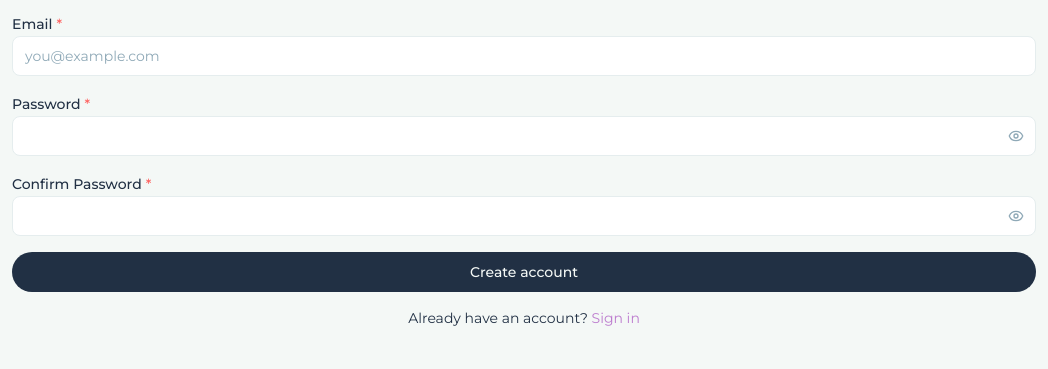
SignupForm › shows a validation error when passwords do not match
Type "new@example.com" into the field labelled "Email*" at x=524, y=56, box [12,36,1036,76]
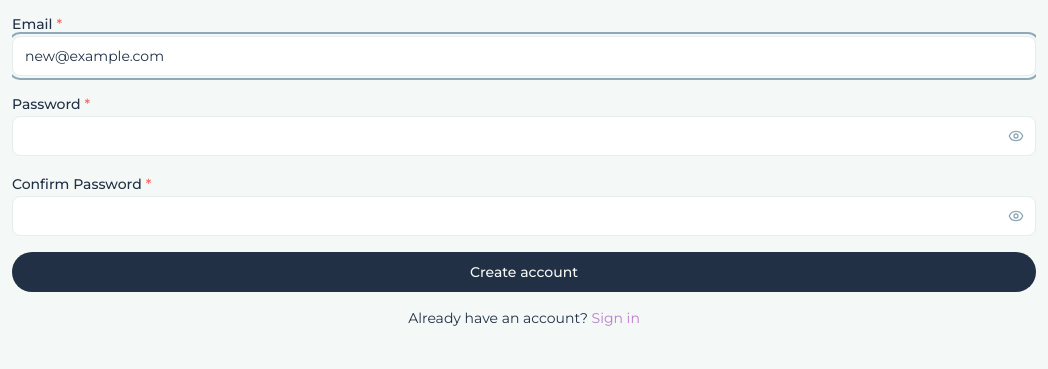
Type "Password123" into the password field labelled "Password*" at x=524, y=136, box [12,116,1036,156]
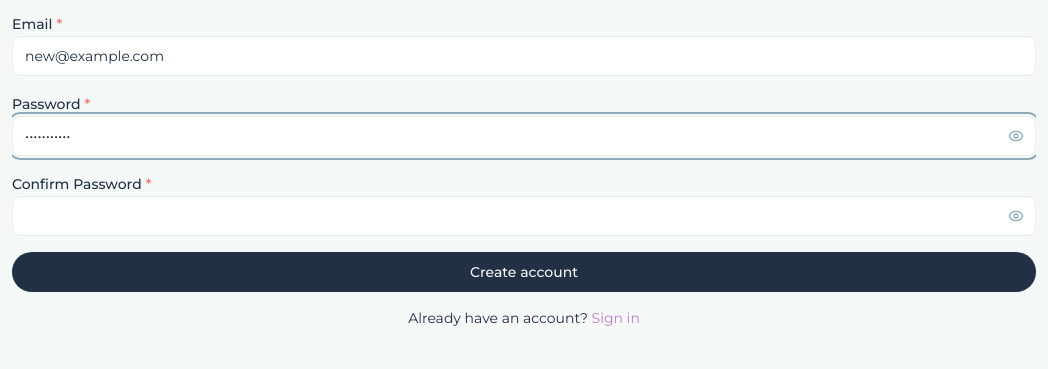
Type "Different123" into the password field labelled "Confirm Password*" at x=524, y=216, box [12,196,1036,236]
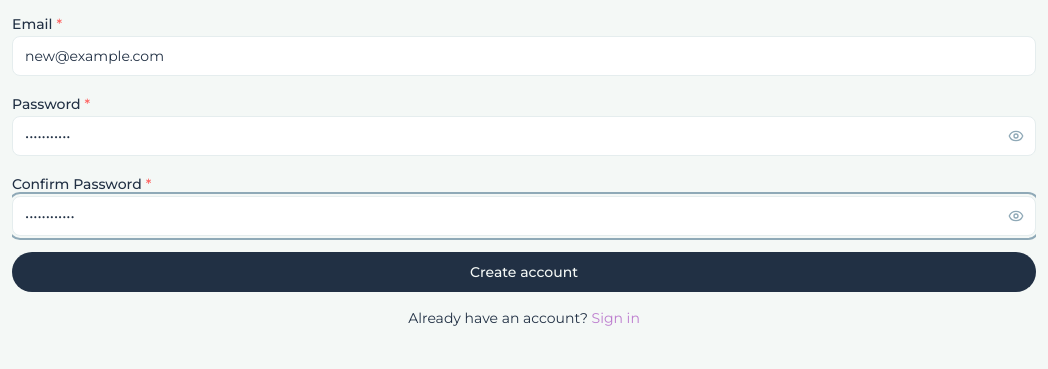
Click the button "Create account" at x=524, y=272, box [12,252,1036,292]
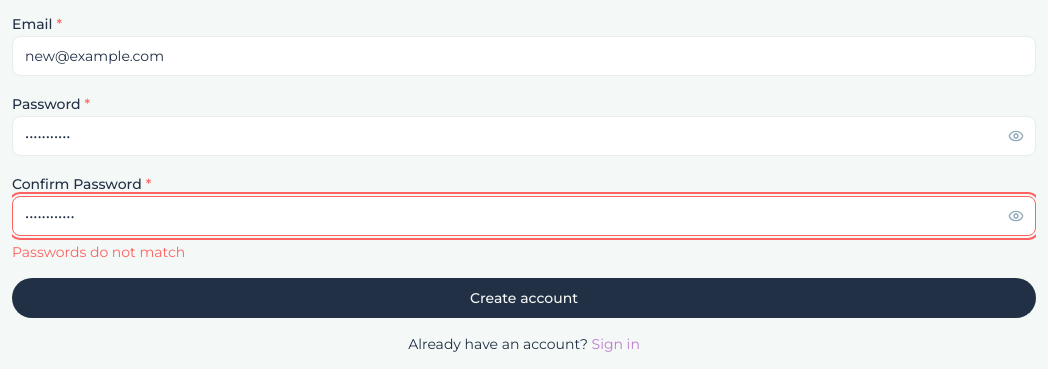
Now the text "Passwords do not match" is shown, box [12,243,185,261]
